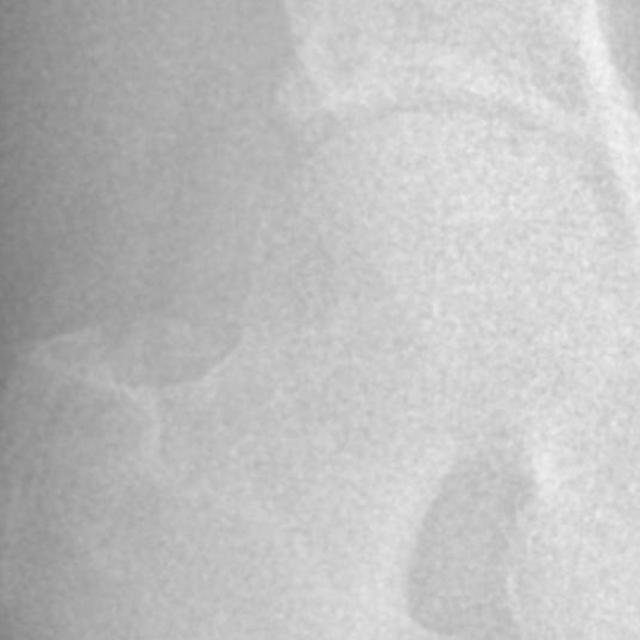Fitted_femural_head: (379, 120, 432, 379)
